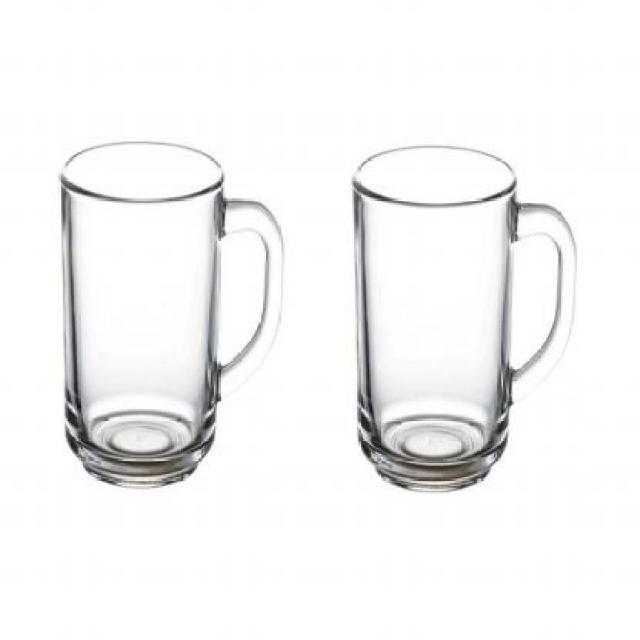taza: (351, 139, 581, 496), (60, 140, 284, 484)
